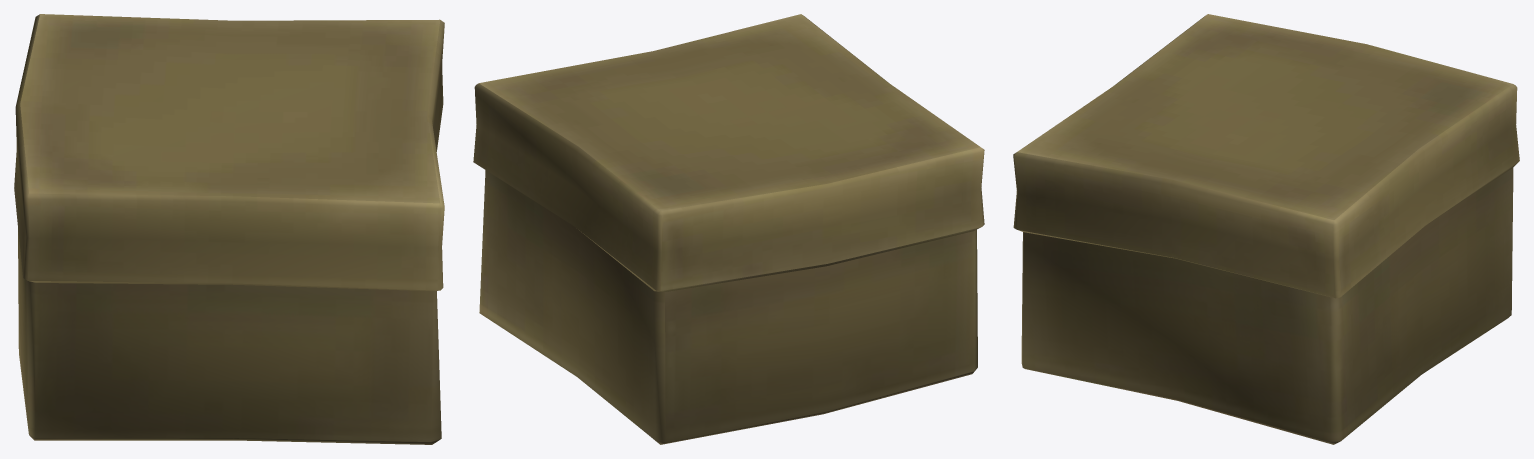
The picture shows the model from 3 angles, left to right: view 1: azimuth 30°, elevation 25°; view 2: azimuth 150°, elevation 25°; view 3: azimuth 270°, elevation 25°; orthographic projection. The views are drawn at different scales.
Visible parts, largest first — view 1: Box157; view 2: Box157; view 3: Box157.
Part boxes in pixels (left/top/right/bottom): Box157: left=14, top=14, right=444, bottom=444; Box157: left=473, top=14, right=984, bottom=444; Box157: left=1013, top=14, right=1519, bottom=444.
Size of the model in its own units: 106 by 53.68 by 106.
Materials: 1 (1 with a texture image).
